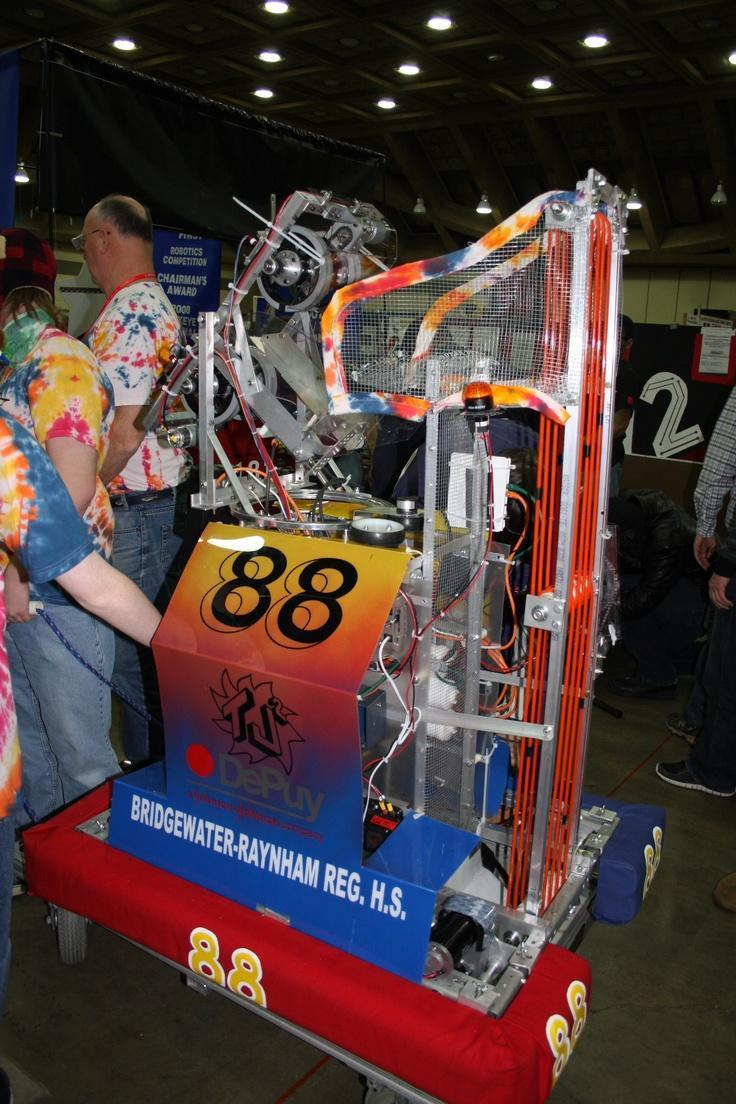robot: (18, 163, 673, 1104)
